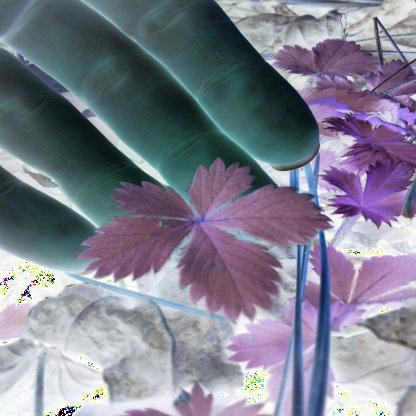Strawberry leaf: (68, 214, 201, 288), (181, 222, 279, 319), (216, 187, 334, 245)
